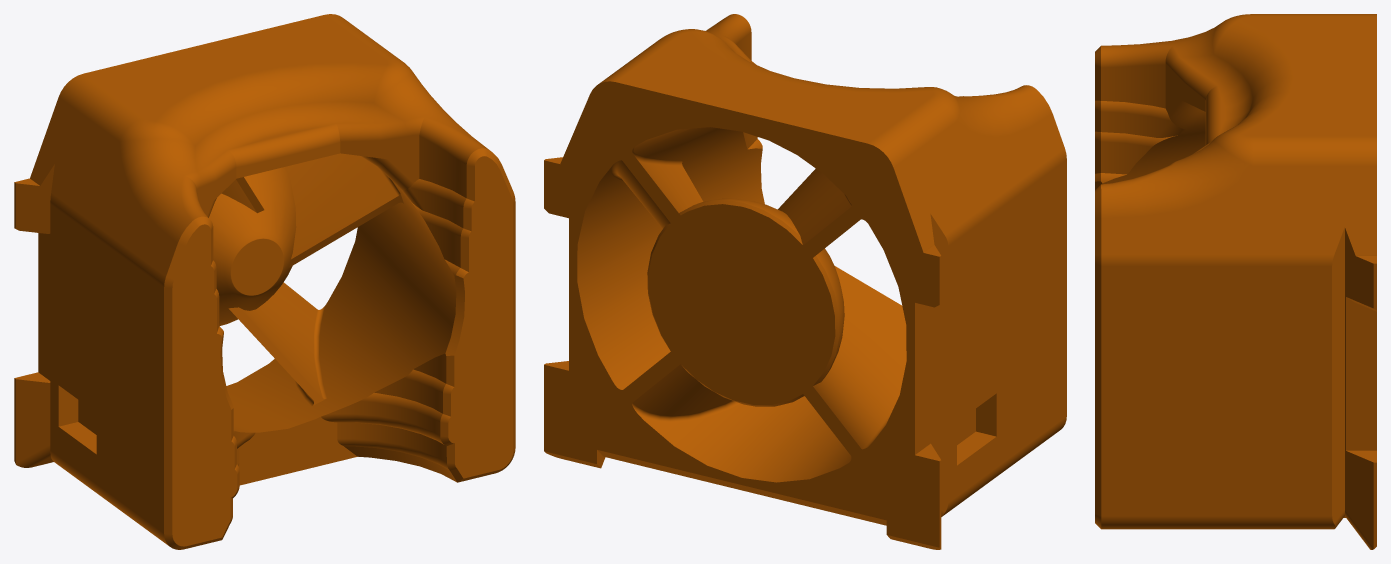
The model's file is A4T HE Duct - Revo-Voron.gltf.
The picture shows the model from 3 angles, left to right: view 1: azimuth 30°, elevation 25°; view 2: azimuth 150°, elevation 25°; view 3: azimuth 270°, elevation 25°; orthographic projection. The views are drawn at different scales.
Parts seen in each view (by area): view 1: A4T HE Duct - Revo-Voron; view 2: A4T HE Duct - Revo-Voron; view 3: A4T HE Duct - Revo-Voron.
Boxes of the visible parts, box(x1,y1,x2,y2) form: A4T HE Duct - Revo-Voron: box(14, 14, 515, 549); A4T HE Duct - Revo-Voron: box(544, 14, 1066, 549); A4T HE Duct - Revo-Voron: box(1095, 14, 1376, 549).
Size of the model in its own units: 0.0287 by 0.0273 by 0.0182.
